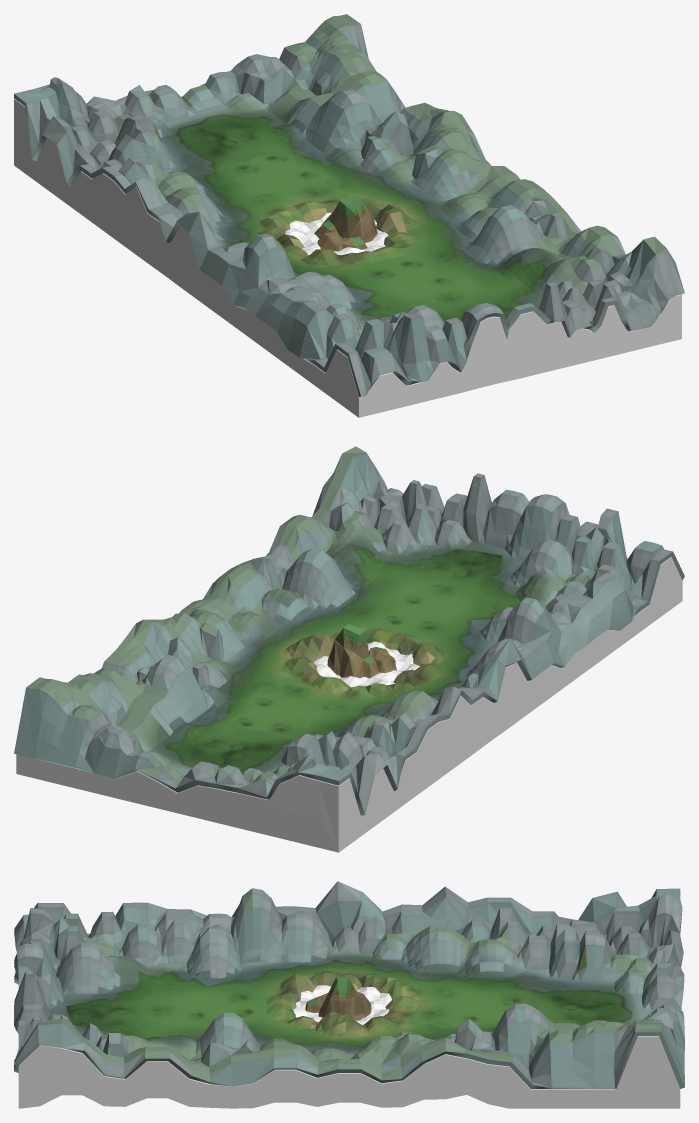
The model's file is map2.FBX.
The picture shows the model from 3 angles, top to bottom: view 1: azimuth 30°, elevation 25°; view 2: azimuth 150°, elevation 25°; view 3: azimuth 270°, elevation 25°; orthographic projection. The views are drawn at different scales.
Parts seen in each view (by area): view 1: Object003, Box002, Plane002; view 2: Object003, Box002, Plane002; view 3: Object003, Box002, Plane002.
Boxes of the visible parts, x1,y1,x2,y2 form: Object003: (14,14,684,397); Box002: (14,99,681,417); Plane002: (285,212,388,255); Object003: (14,446,684,815); Box002: (16,557,682,852); Plane002: (314,641,419,687); Object003: (14,881,684,1088); Box002: (18,896,680,1108); Plane002: (293,985,391,1024).
Size of the model in its own units: 86.86 by 25.62 by 159.
